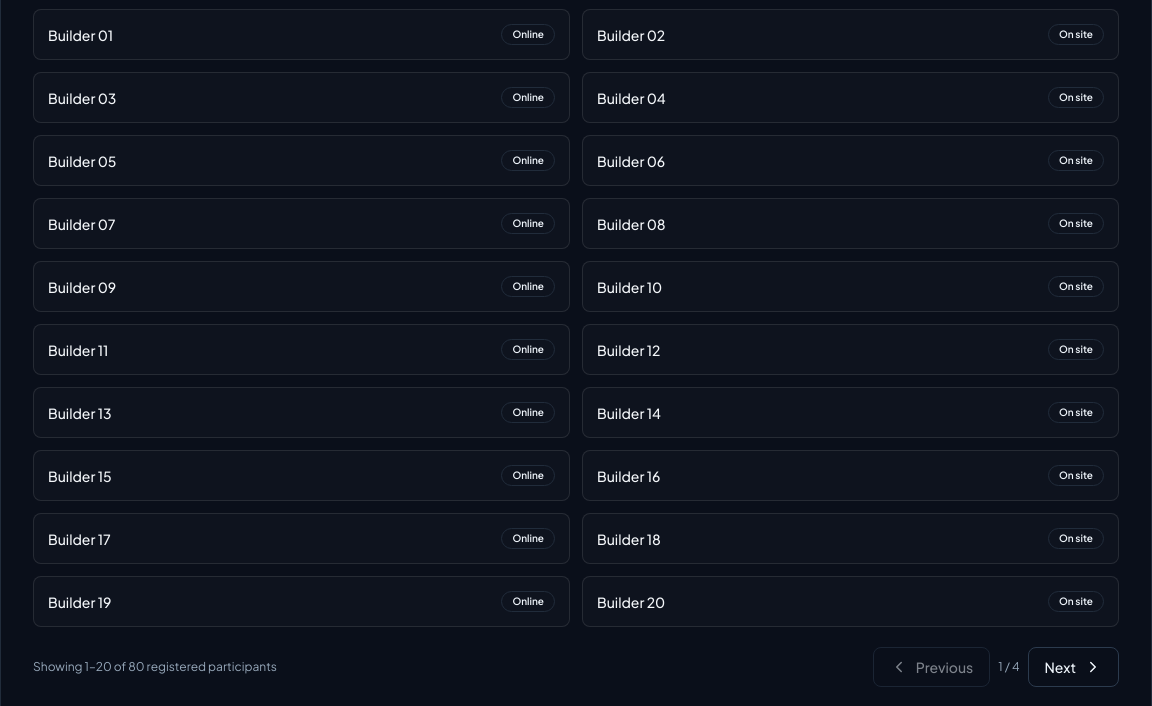
Test case: judge registered participant roster › paginates all 80 approved names and filters by name and attendance
This screenshot has width=1152, height=706.
(page scrolled)
Expected: the text "Builder 01" is shown, 48,24 -> 113,44
Click the button with aria-label "Next participants".
click(1073, 667)  # box 1028,647 -> 1119,687
(page scrolled)
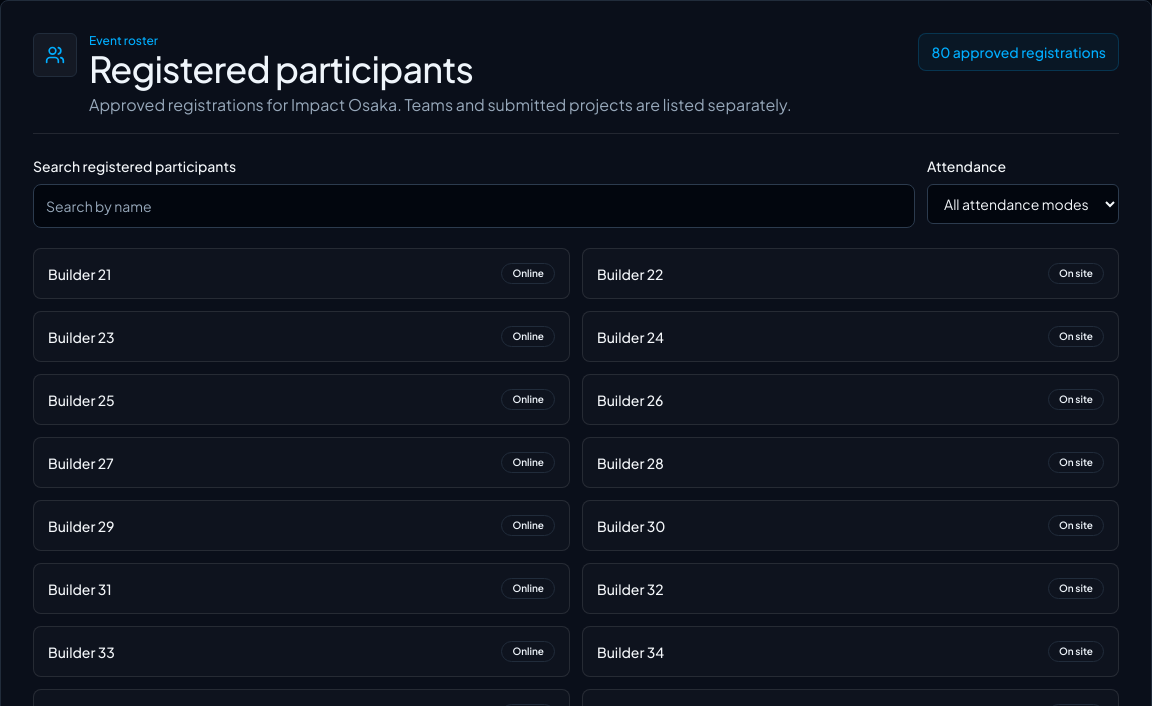
Expected: the text "Builder 21" is shown, 48,264 -> 112,284
Type "Builder 80" into the field labelled "Search registered participants".
click(474, 206); type("Builder 80")  # box 33,184 -> 915,228
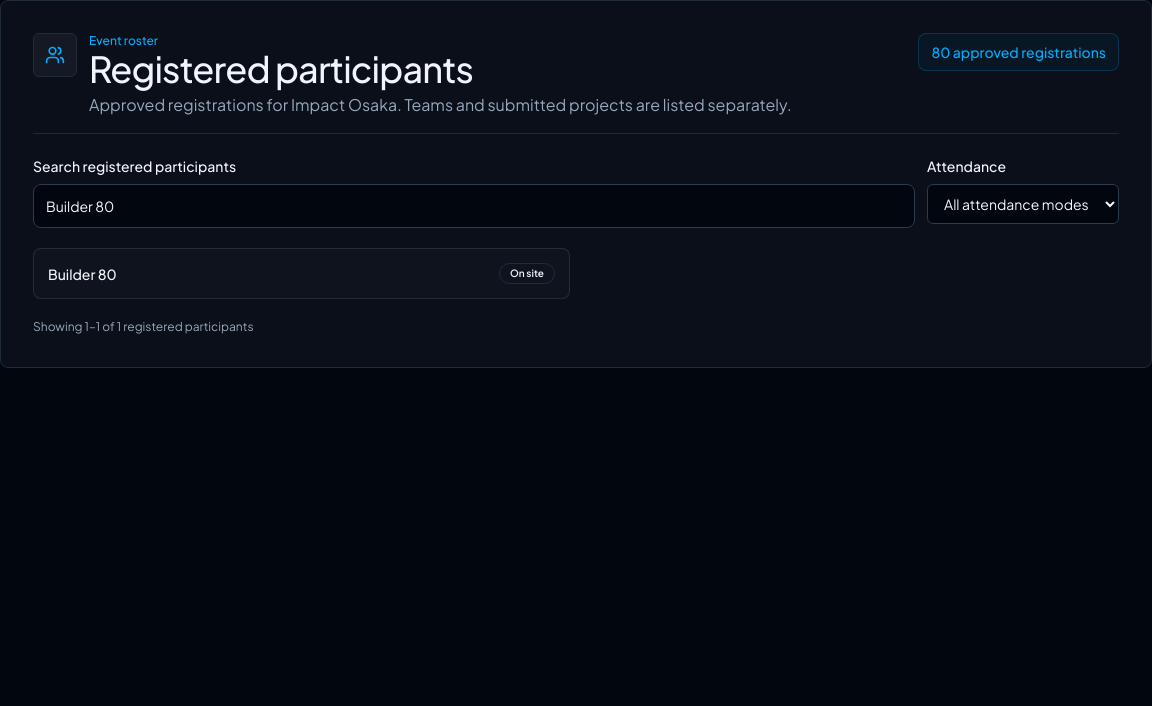
Expected: the number of list items is 1, 33,248 -> 570,299
Expected: the text "Builder 80" is shown, 48,264 -> 117,284
Select "Online" in the dropdown labelled "Attendance" at (1023, 204), box 927,184 -> 1119,224
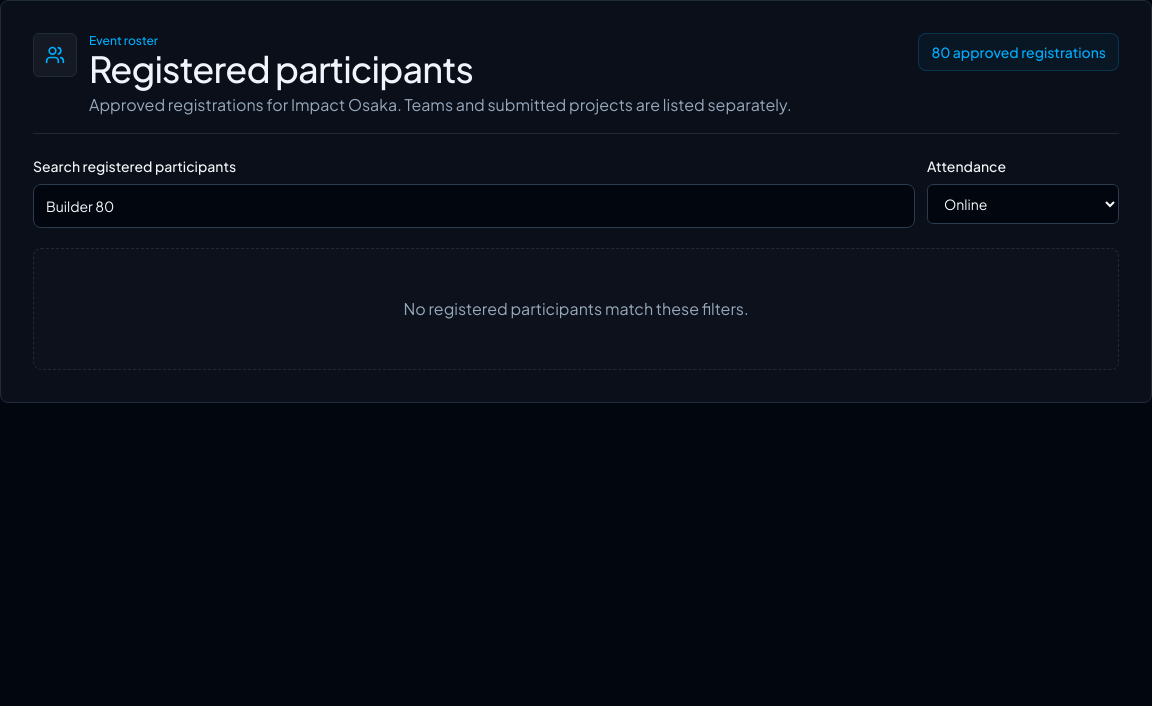
Expected: the text "No registered participants match these filters." is shown, 33,248 -> 1119,370
Clear the field labelled "Search registered participants" at (474, 206), box 33,184 -> 915,228
(page scrolled)
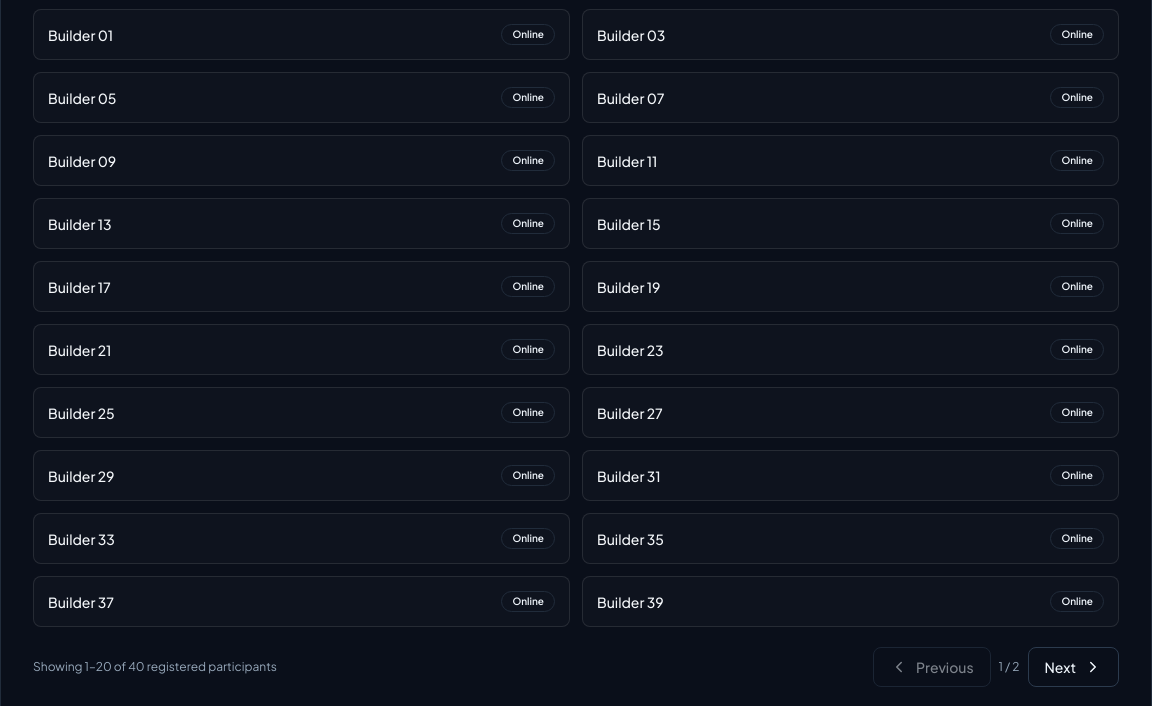
Expected: the text "Builder 02" is not shown
Expected: the text "Showing 1–20 of 40 registered participants" is shown, 33,659 -> 277,675
